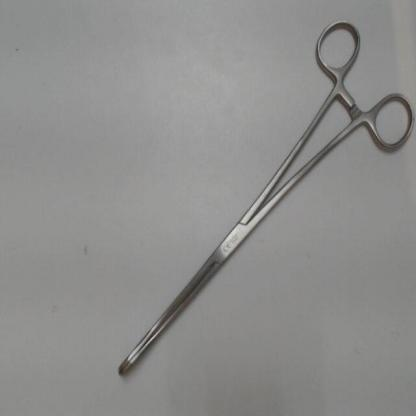Sponge Forceps: (112, 9, 416, 384)
